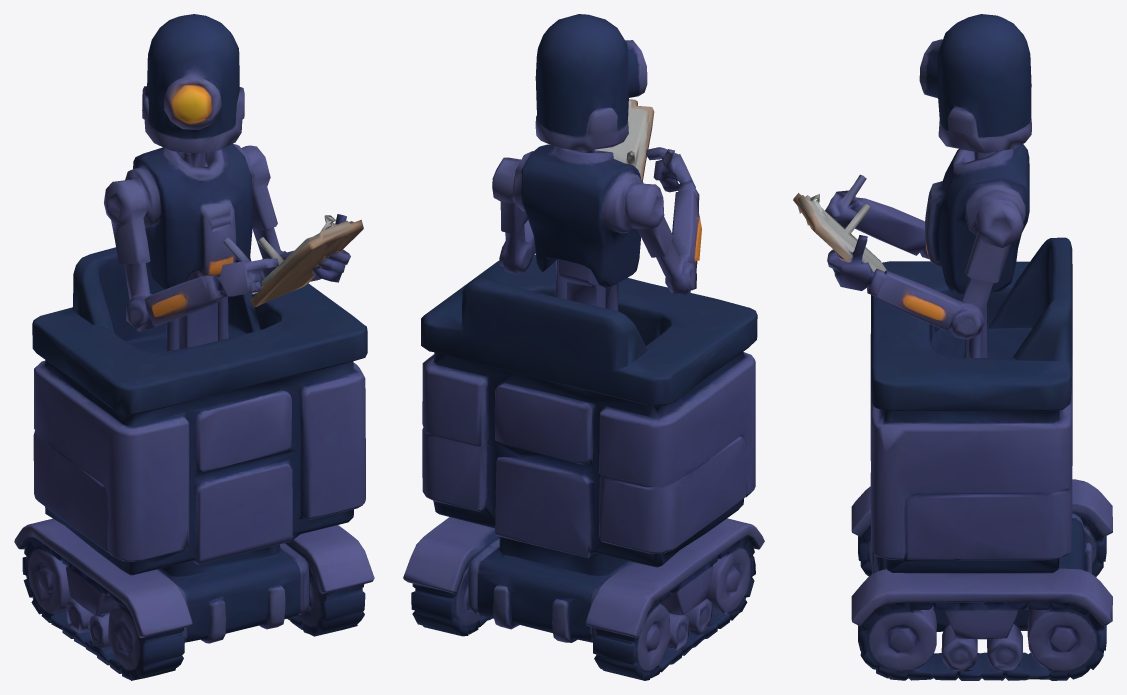
Rendered from overall.glb.
The picture shows the model from 3 angles, left to right: view 1: azimuth 30°, elevation 25°; view 2: azimuth 150°, elevation 25°; view 3: azimuth 270°, elevation 25°; orthographic projection.
Visible parts, largest first — view 1: tripo_node_3032b70e-f2ef-444d-a7f5-dad4f5361bd1; view 2: tripo_node_3032b70e-f2ef-444d-a7f5-dad4f5361bd1; view 3: tripo_node_3032b70e-f2ef-444d-a7f5-dad4f5361bd1.
Boxes of the visible parts, x1,y1,x2,y2 form: tripo_node_3032b70e-f2ef-444d-a7f5-dad4f5361bd1: [14, 14, 374, 680]; tripo_node_3032b70e-f2ef-444d-a7f5-dad4f5361bd1: [403, 14, 764, 680]; tripo_node_3032b70e-f2ef-444d-a7f5-dad4f5361bd1: [793, 14, 1112, 680].
Bounding box in the file's own units: 0.4291 × 0.9799 × 0.4668.
1 material, 1 textured.
